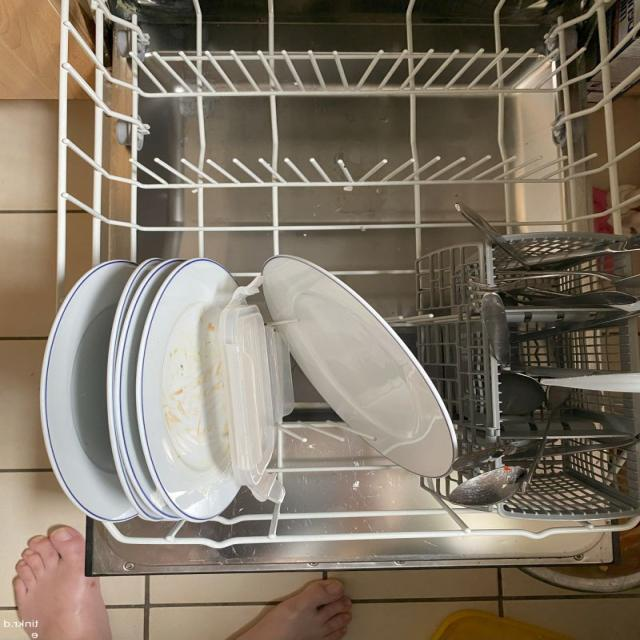clutery_bin: (461, 236, 631, 540)
empty_slot: (92, 0, 631, 226)
